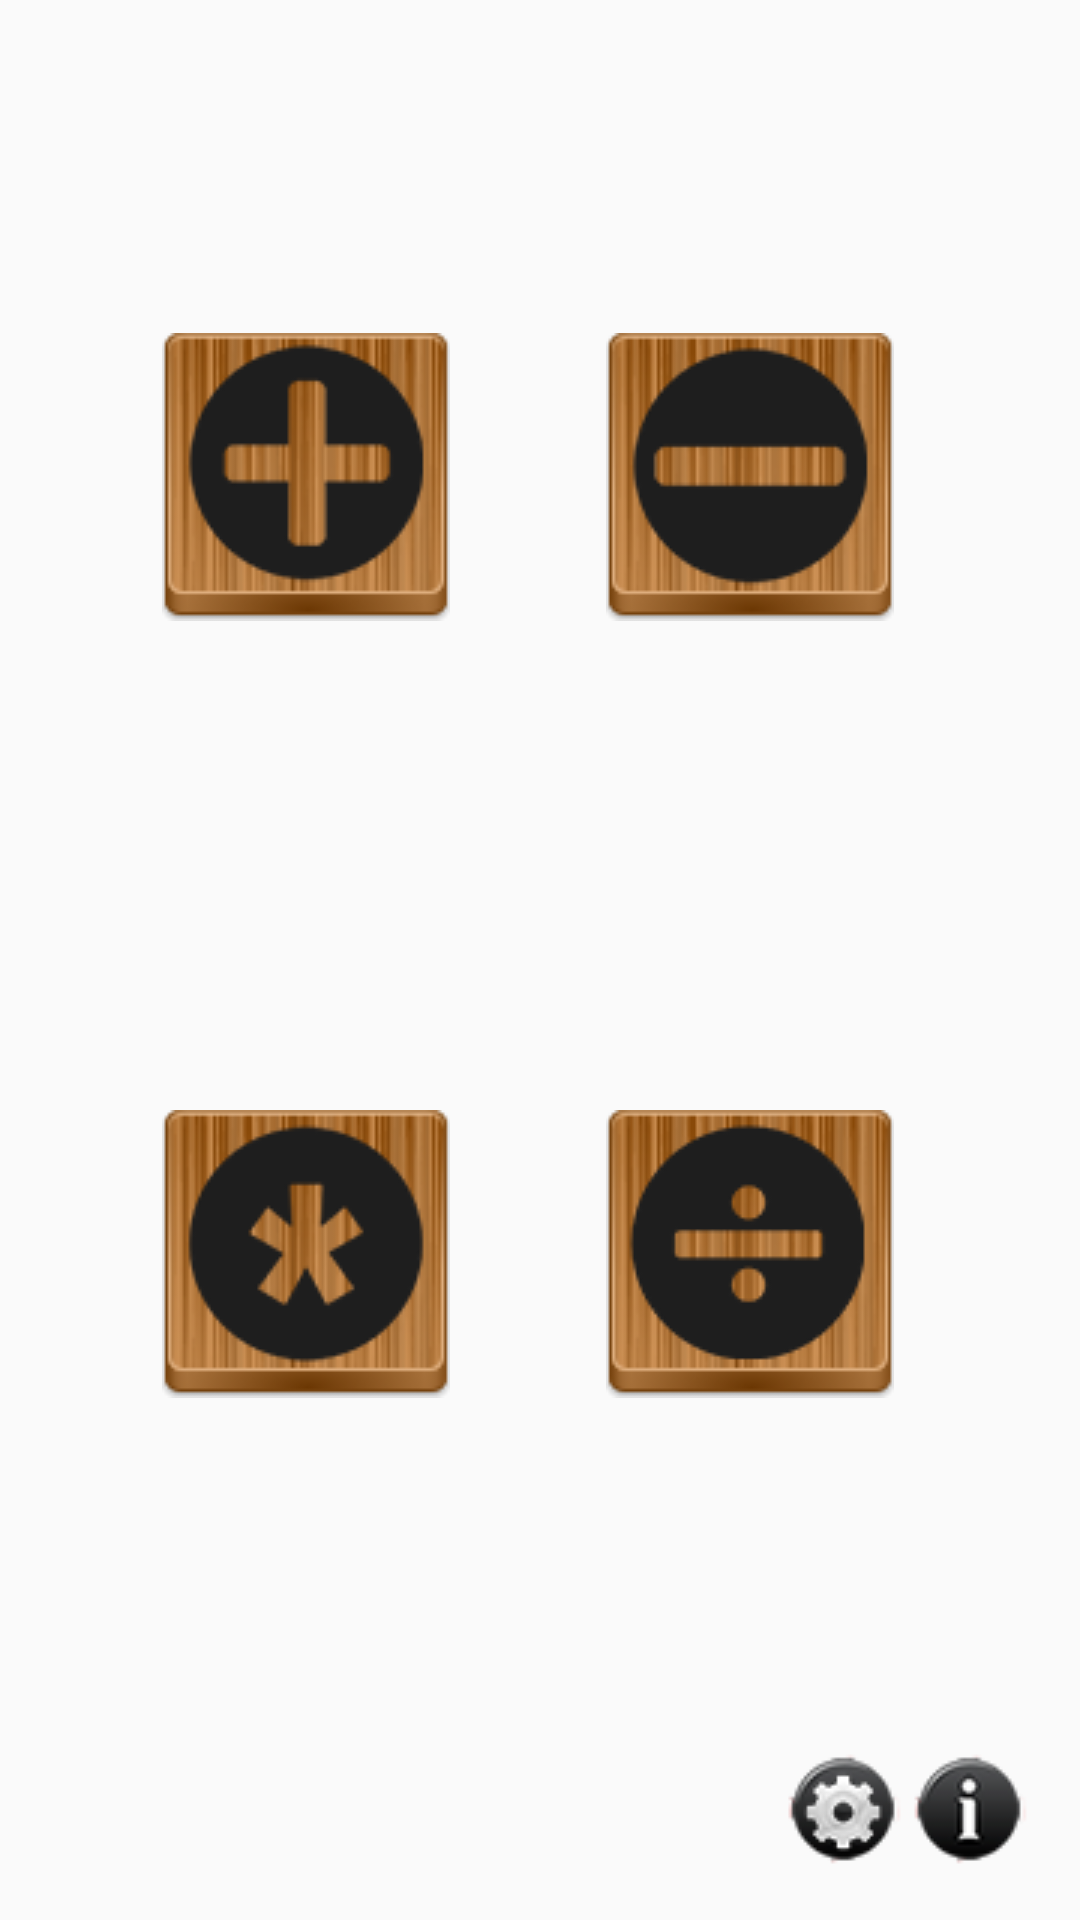

Icons on this 1080*1920 Android screen, each with its box as [left=x1, top=y1, right=x2, bottom=y2]:
add: [left=162, top=333, right=450, bottom=621]
div: [left=606, top=1110, right=894, bottom=1398]
info: [left=915, top=1757, right=1021, bottom=1863]
mult: [left=162, top=1110, right=450, bottom=1398]
settings: [left=789, top=1757, right=895, bottom=1863]
sub: [left=606, top=333, right=894, bottom=621]
